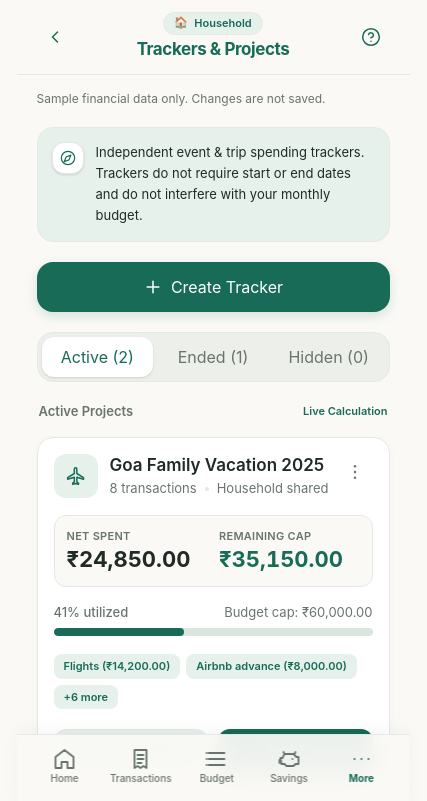
TrackersScreen rendering › reopens an ended tracker and moves it to Active tab
Note: Switch to Ended tab
Click the button "Ended (1)" at (213, 356), box [157, 336, 269, 376]
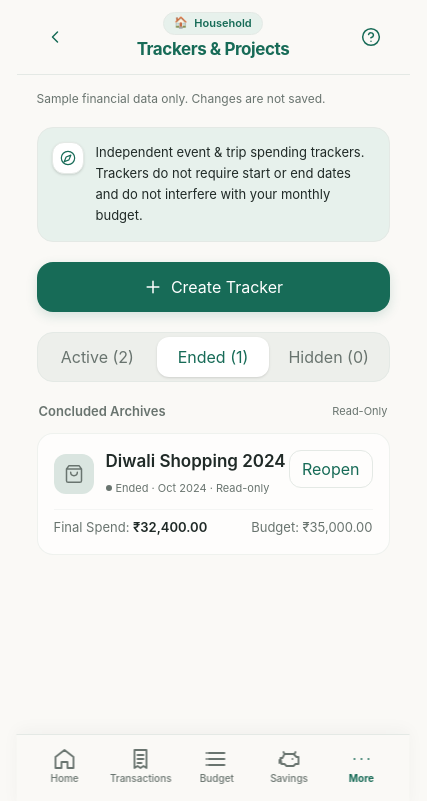
Note: Reopen Diwali tracker
Click the button "Reopen" at (331, 469), box [289, 450, 372, 488]
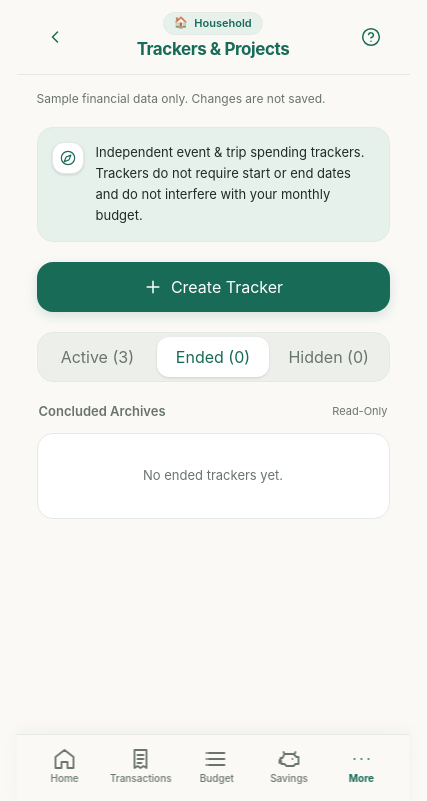
Note: Switch back to Active tab — Diwali tracker should now appear
Click the button "Active (3)" at (97, 356), box [42, 336, 153, 376]
(page scrolled)
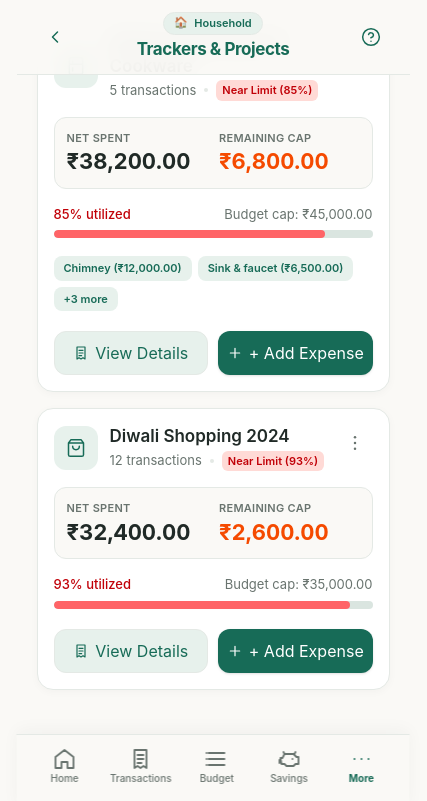
Expected: the heading "Diwali Shopping 2024" is shown, [110, 426, 290, 446]
